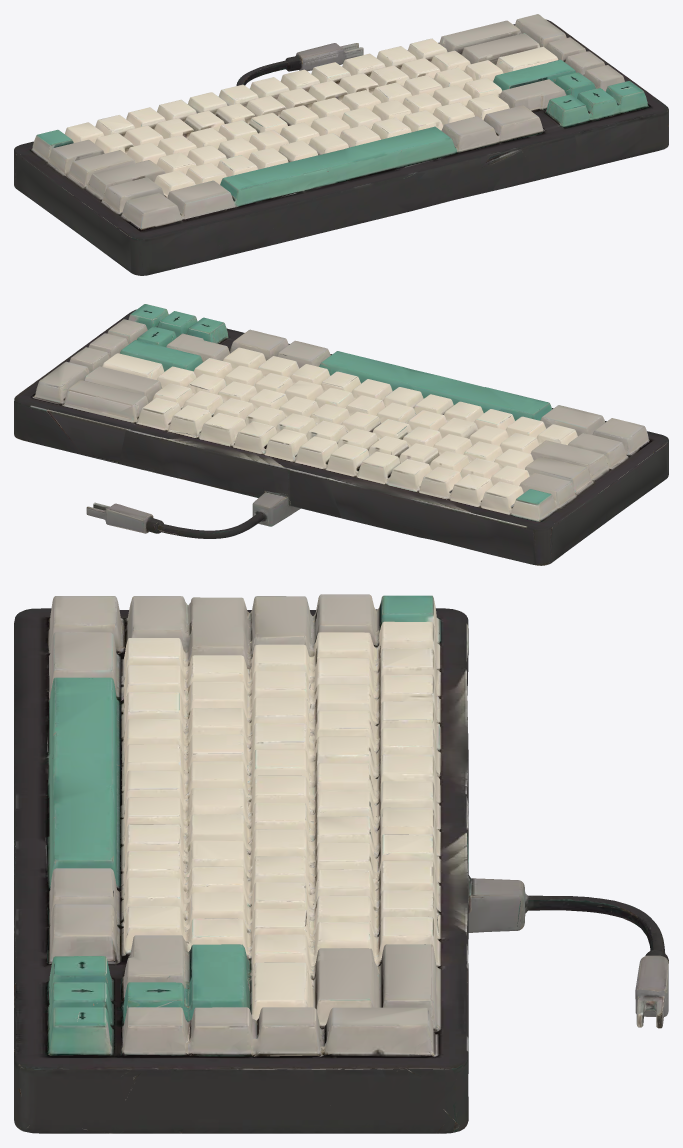
Rendered from keyboard.glb.
The picture shows the model from 3 angles, top to bottom: view 1: azimuth 30°, elevation 25°; view 2: azimuth 150°, elevation 25°; view 3: azimuth 270°, elevation 25°; orthographic projection. The views are drawn at different scales.
Parts seen in each view (by area): view 1: Mesh_0; view 2: Mesh_0; view 3: Mesh_0.
Part boxes in pixels (x1,y1,x2,y2): Mesh_0: (14,14,668,275); Mesh_0: (14,304,668,565); Mesh_0: (14,594,668,1133).
Size of the model in its own units: 1.9 by 0.2254 by 1.14.
1 material, 1 textured.
